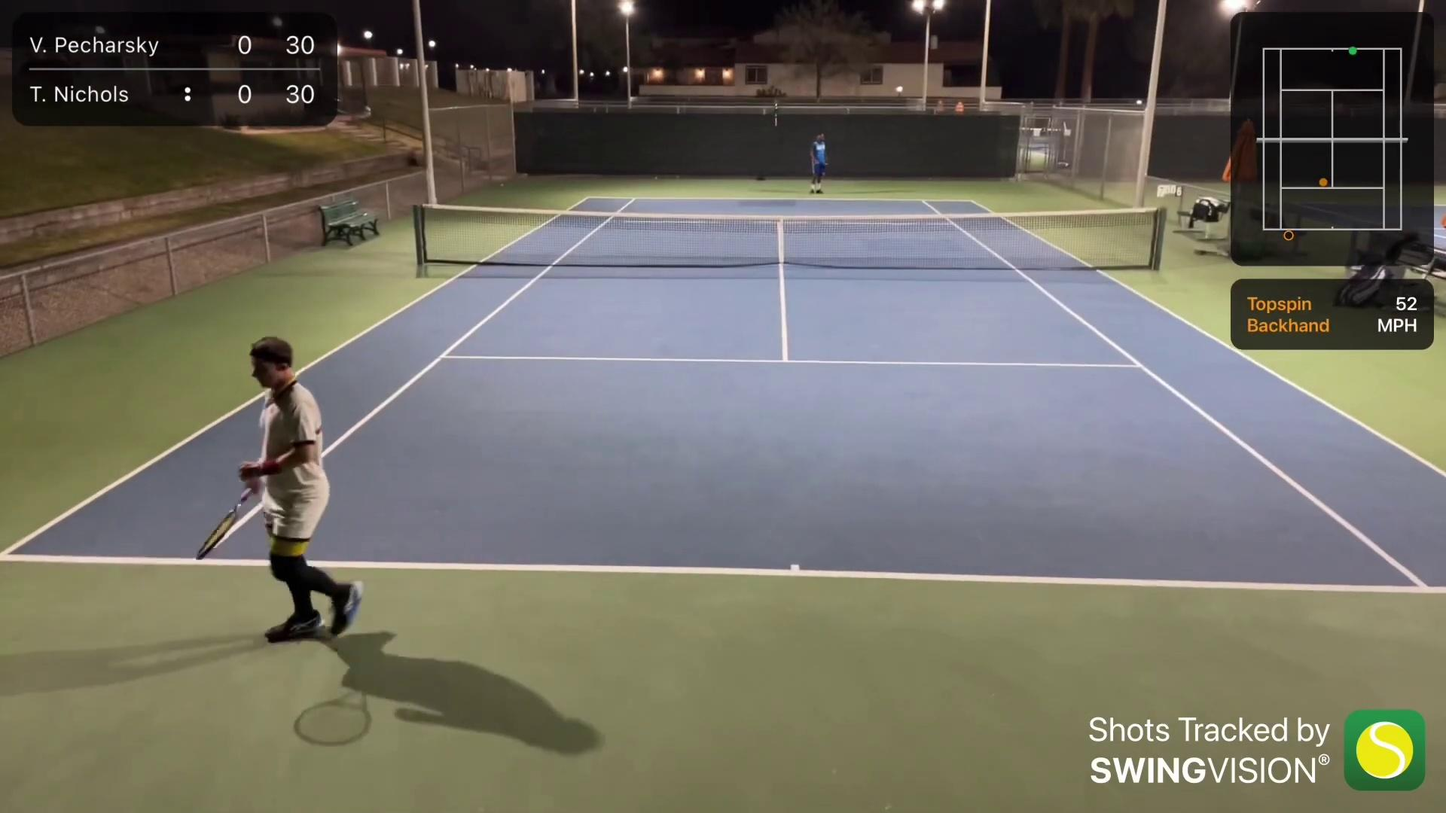ball: (654, 177, 660, 182), (500, 182, 505, 187), (541, 69, 545, 73)
